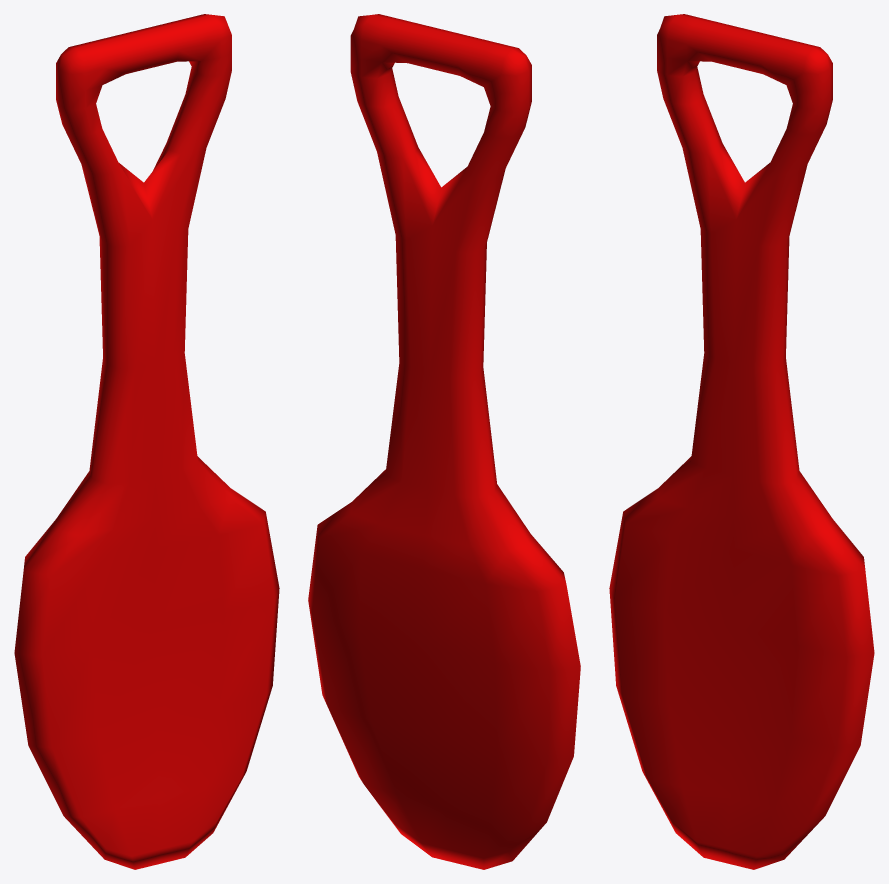
The model's file is Shovel.fbx.
3 renders of one model, left to right at view 1: azimuth 30°, elevation 25°; view 2: azimuth 150°, elevation 25°; view 3: azimuth 330°, elevation 25°, orthographic. The views are drawn at different scales.
Visible parts, largest first — view 1: shovel; view 2: shovel; view 3: shovel.
Boxes of the visible parts, x1,y1,x2,y2 form: shovel: (14,14,279,869); shovel: (308,14,580,869); shovel: (609,14,874,869).
Bounding box in the file's own units: 66.94 × 198 × 15.67.
